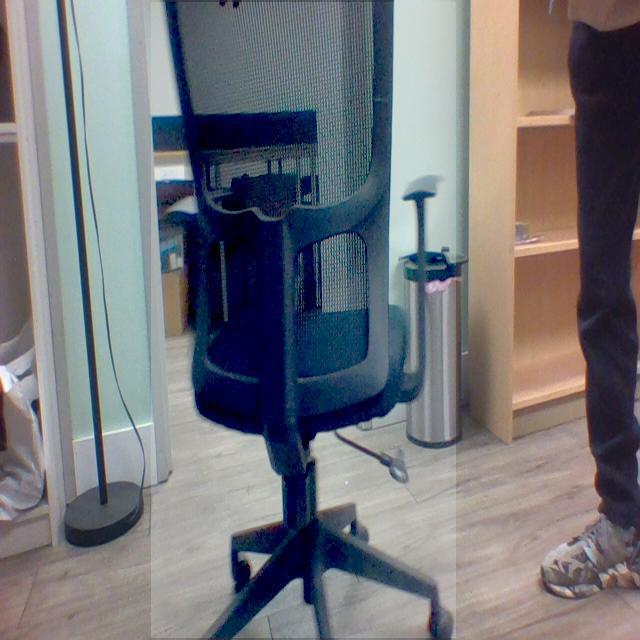chair: (151, 1, 457, 638)
